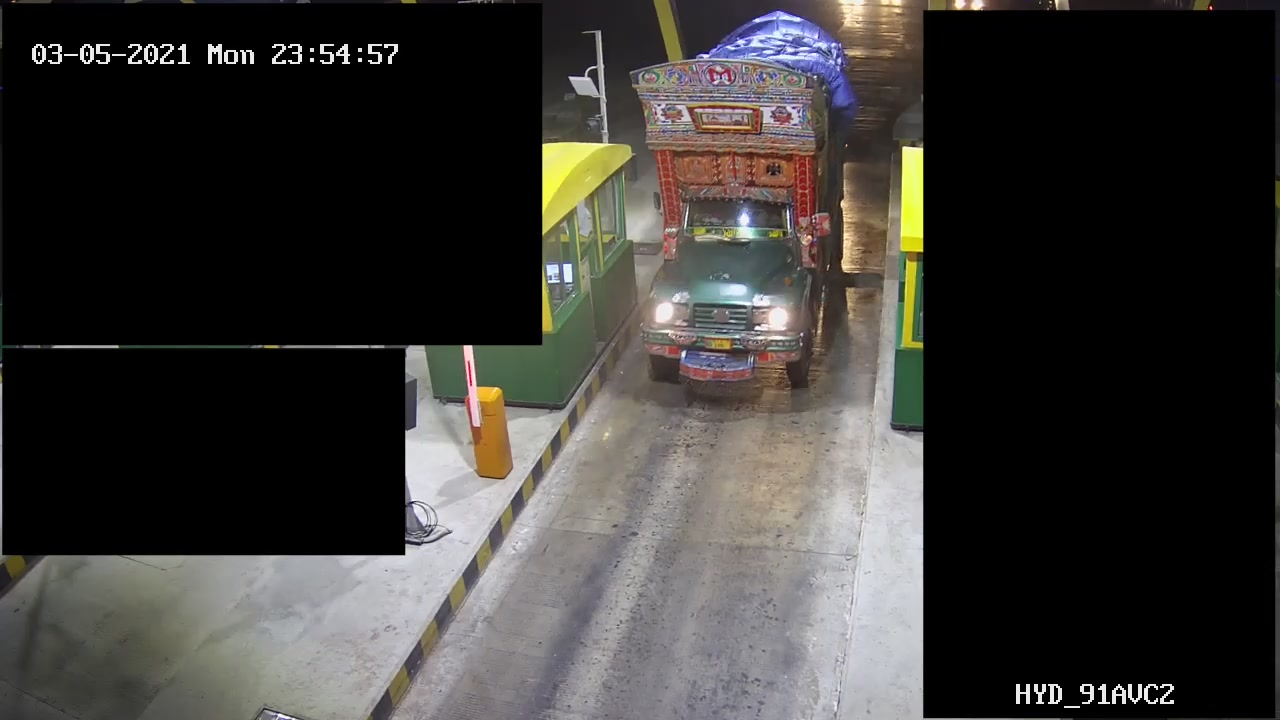F5: (628, 13, 858, 399)
